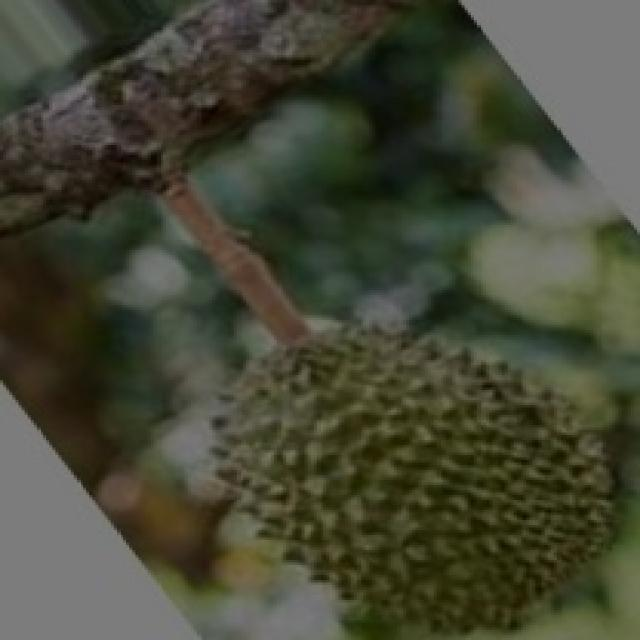fruit: (258, 285, 640, 640)
